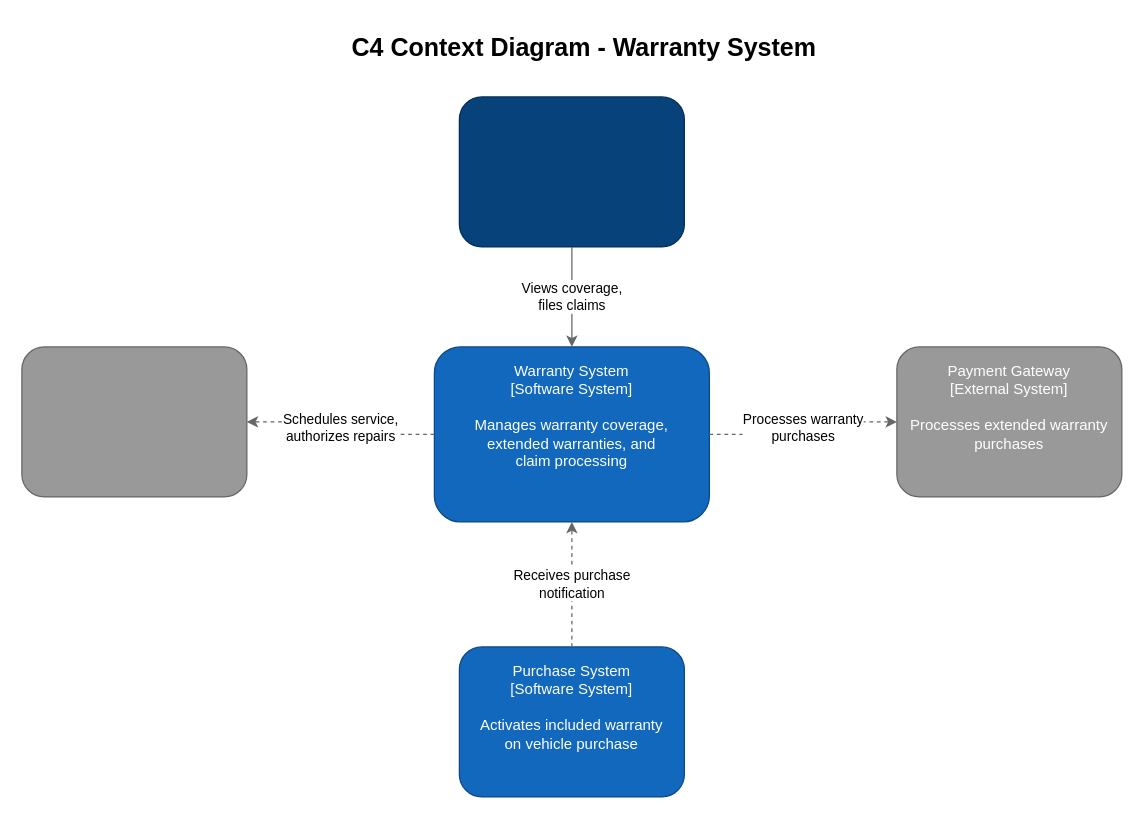
Some shapes in this 1144 by 819 pixel diagram are drawn without their labels. Each missing label, with the centre of its shape:
"Service Centers [External System] Authorized repair facilities for warranty work" goes at (134,421).
"Vehicle Owner [Person] Customer managing warranty and filing claims" goes at (571,171).
